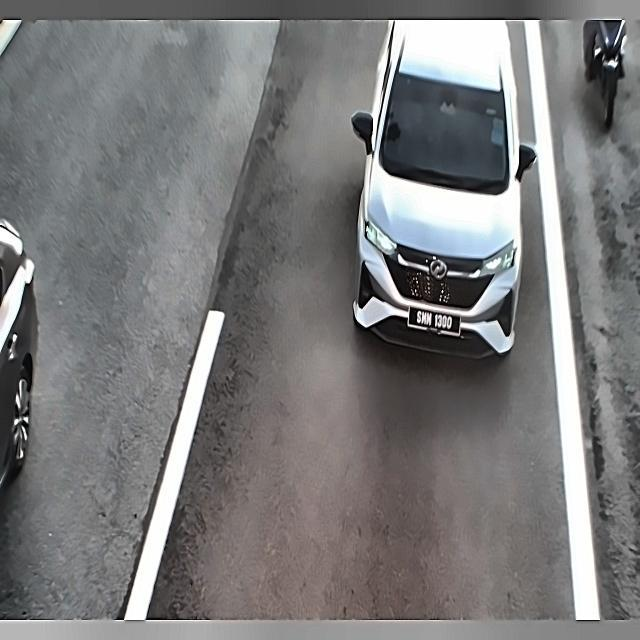car: (408, 302, 463, 344)
